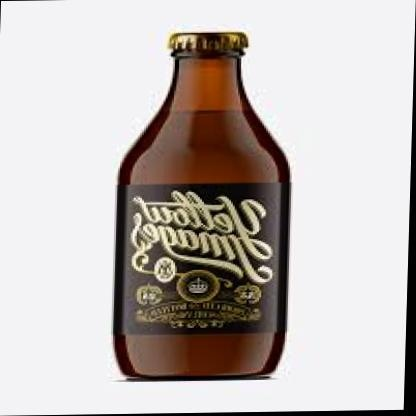trash: (114, 32, 288, 377)
